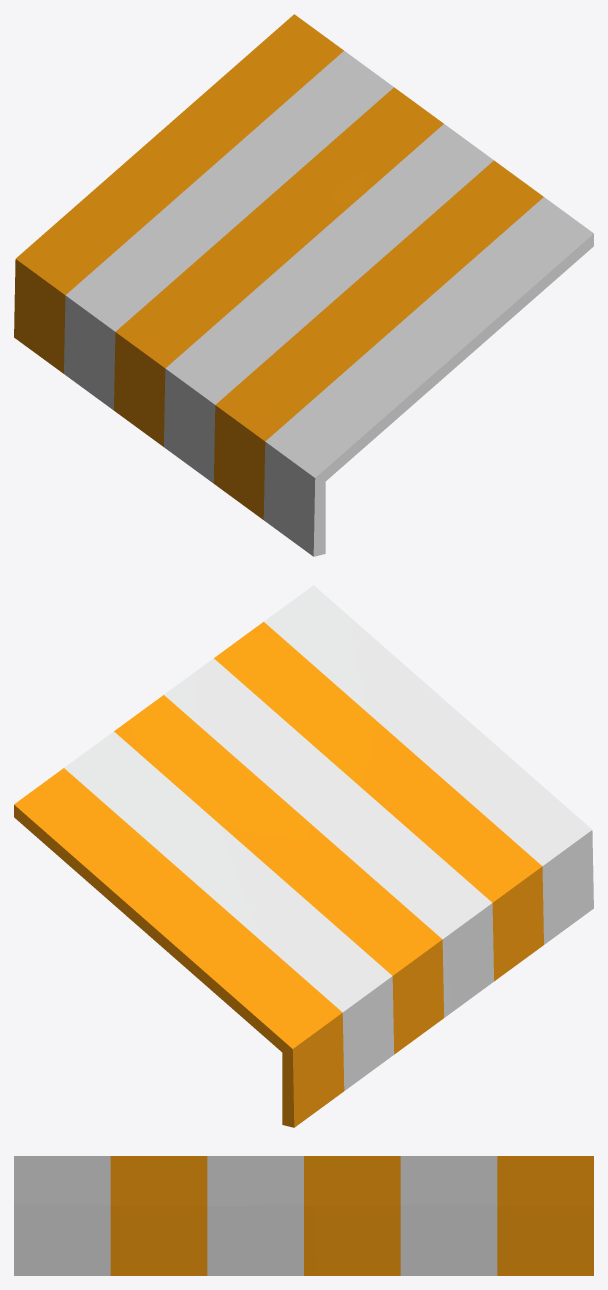
File: Awning_2_I.glb
The picture shows the model from 3 angles, top to bottom: view 1: azimuth 30°, elevation 25°; view 2: azimuth 150°, elevation 25°; view 3: azimuth 270°, elevation 25°; orthographic projection. The views are drawn at different scales.
Parts seen in each view (by area): view 1: Awning_2_I; view 2: Awning_2_I; view 3: Awning_2_I.
Boxes of the visible parts, x1,y1,x2,y2 form: Awning_2_I: (14,14,593,556); Awning_2_I: (14,585,593,1127); Awning_2_I: (14,1156,593,1275).
Size of the model in its own units: 1.11 by 0.9645 by 2.05.
2 materials, 2 textured.
